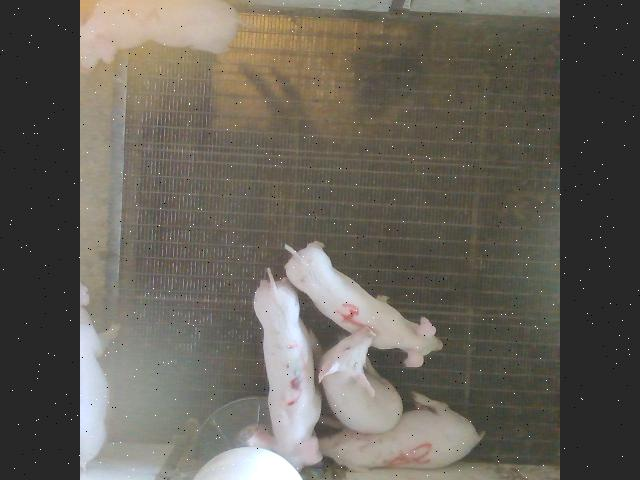pig-2: (81, 0, 241, 69)
pig-3: (249, 268, 322, 469)
pig-4: (285, 241, 442, 366)
pig-5: (319, 392, 484, 470)
